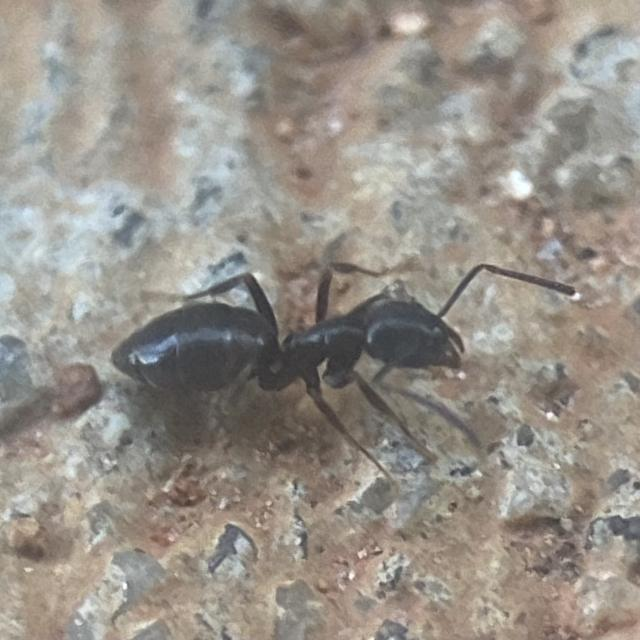Tapinoma: (76, 221, 510, 454)
